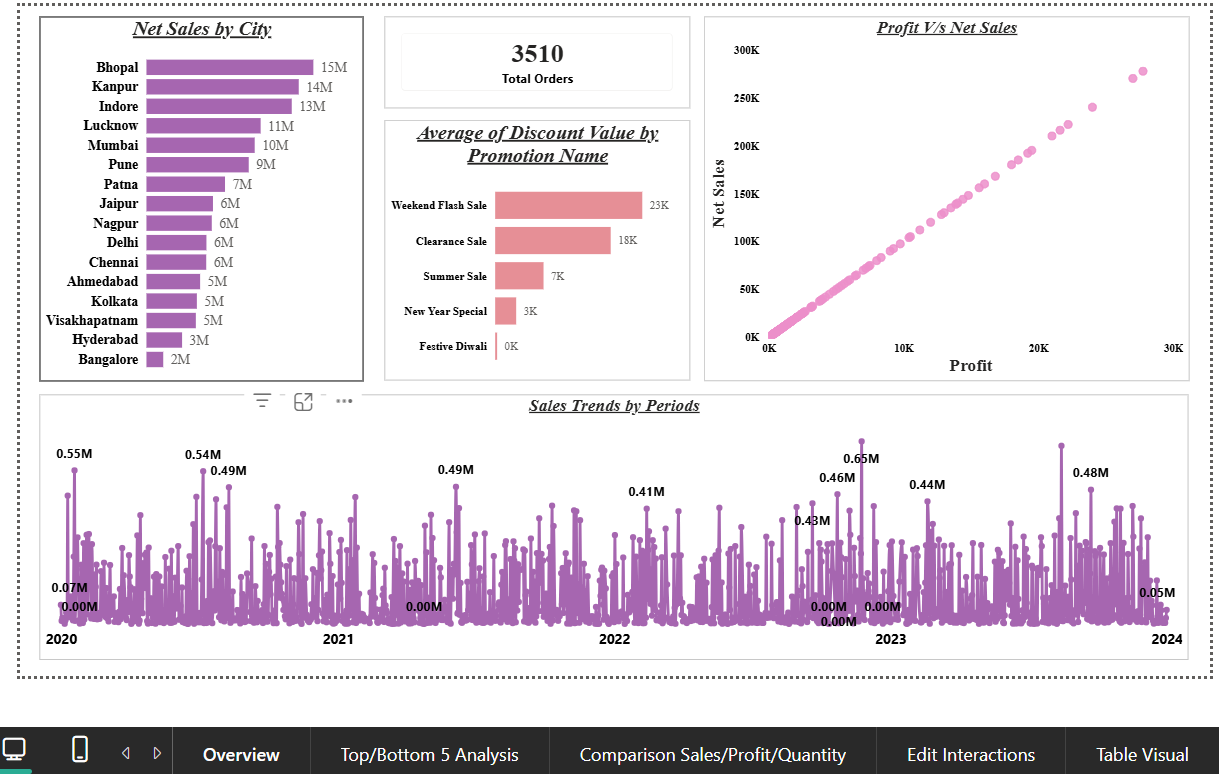

The dashboard page shown, as its layout file describes it:
{"tool":"powerbi","page":{"name":"Overview","canvas":[1280,720],"ordinal":0},"visuals":[{"type":"lineChart","title":"Sales Trends by Periods","fields":{"Y":["Sum(Fact Table.Net Sales)"],"Category":["Fact Table.Date (dd/mm/yyyy).Variation.Date Hierarchy.Year"]},"box":[21.7,418.3,1235,285],"z":0},{"type":"scatterChart","title":"Profit V/s Net Sales","fields":{"X":["Fact Table.Profit"],"Y":["Fact Table.Net Sales"]},"box":[735,11.7,521.7,391.7],"z":1000},{"type":"barChart","fields":{"Y":["Avg(Fact Table.Discount Value)"],"Category":["Dim Promotion.Promotion Name"]},"box":[391.7,123.3,328.3,280],"z":2000},{"type":"barChart","fields":{"Category":["Dim Customers.City"],"Y":["Sum(Fact Table.Net Sales)"]},"box":[21.7,11.7,348.3,391.7],"z":3000},{"type":"cardVisual","fields":{"Data":["Measures Table.Total Orders"]},"box":[391.7,11.7,328.3,98.3],"z":4000}]}

Visuals, with their boxes on the page's 1280x720 design canvas (x1, y1, x2, y2). These are canvas units, not pixel positions in the 1219x774 screenshot, which may show the page scaled, cropped or inside an application window:
"Sales Trends by Periods" lineChart: 22/418/1257/703
"Profit V/s Net Sales" scatterChart: 735/12/1257/403
barChart - Avg(Fact Table.Discount Value) x Dim Promotion.Promotion Name: 392/123/720/403
barChart - Dim Customers.City x Sum(Fact Table.Net Sales): 22/12/370/403
cardVisual - Measures Table.Total Orders: 392/12/720/110
